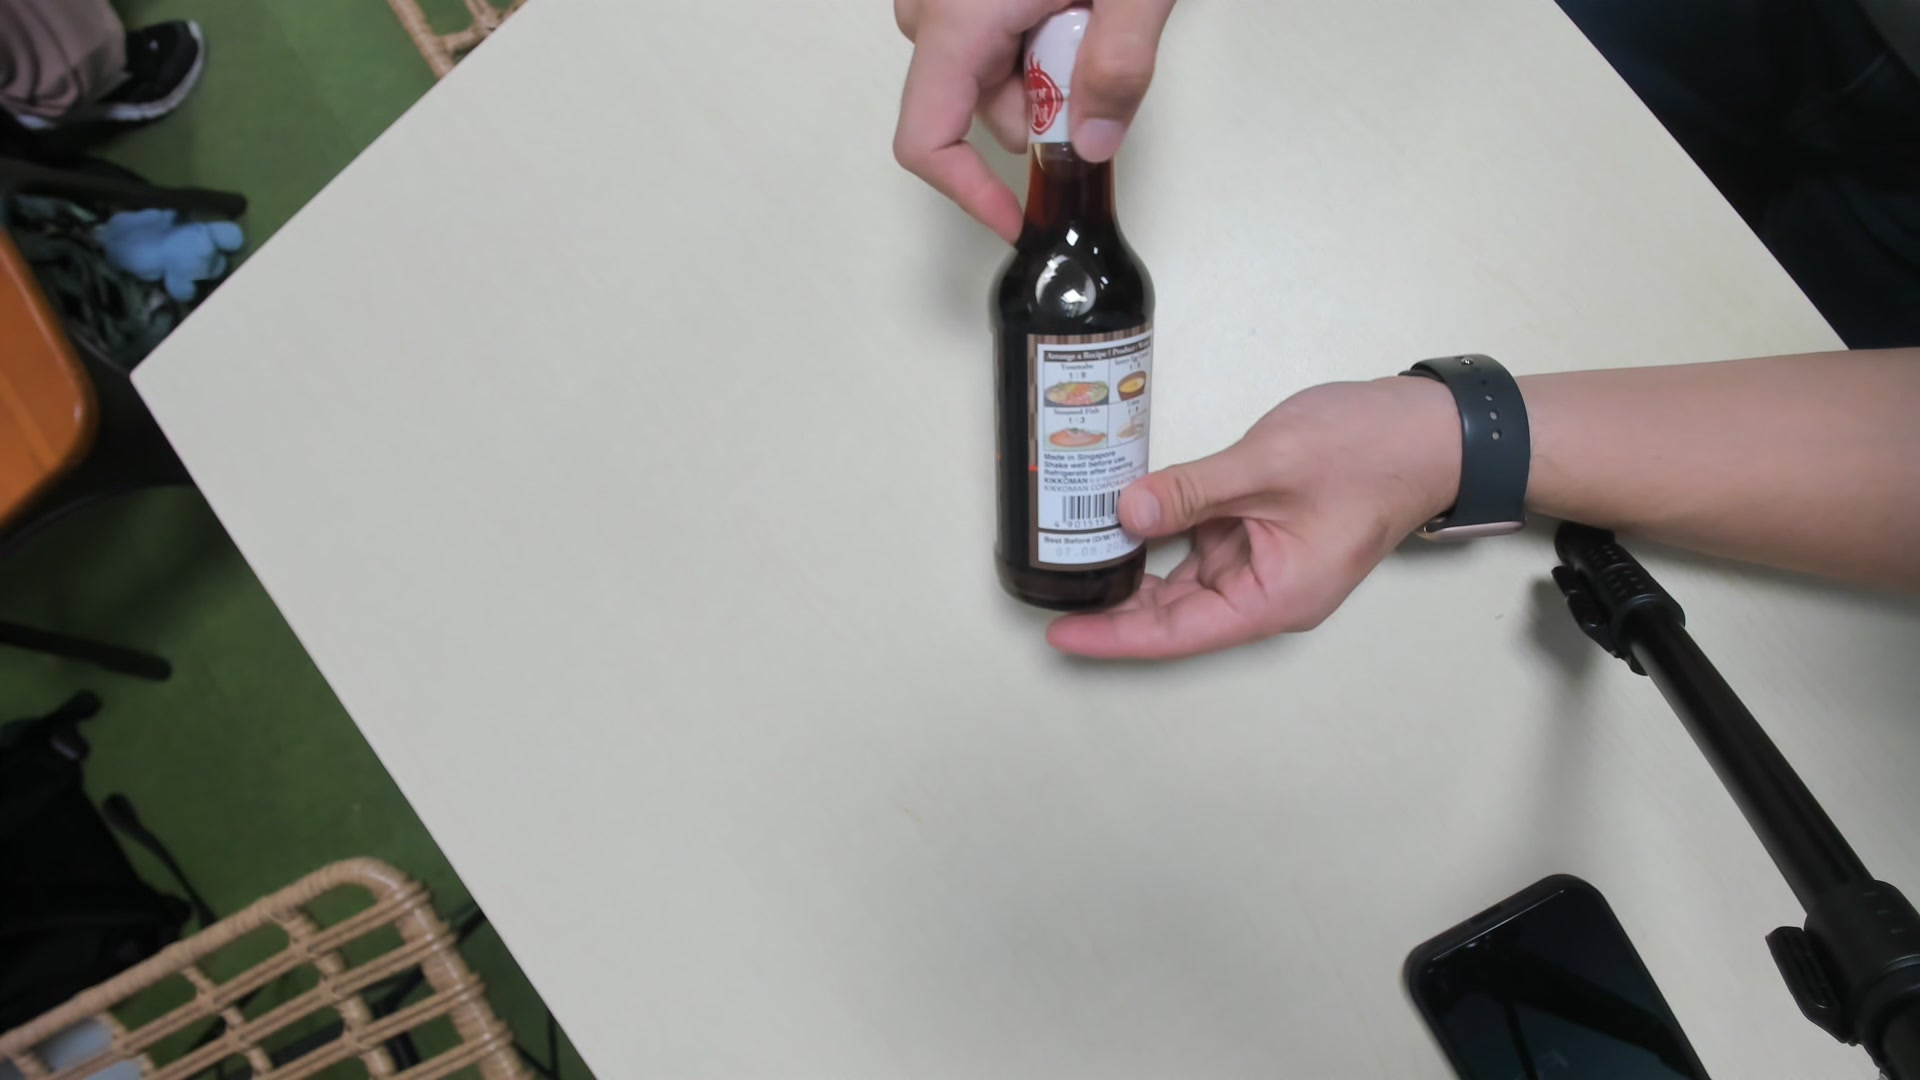OtherSauceDressing_200-299g_NonHalal_NonHealthy: (984, 1, 1158, 611)
